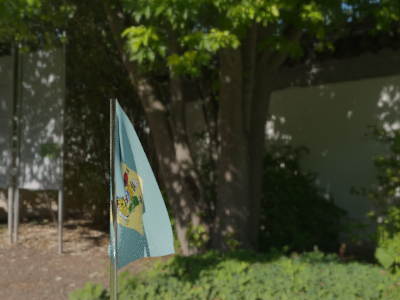Delaware flag: (113, 100, 176, 272)
